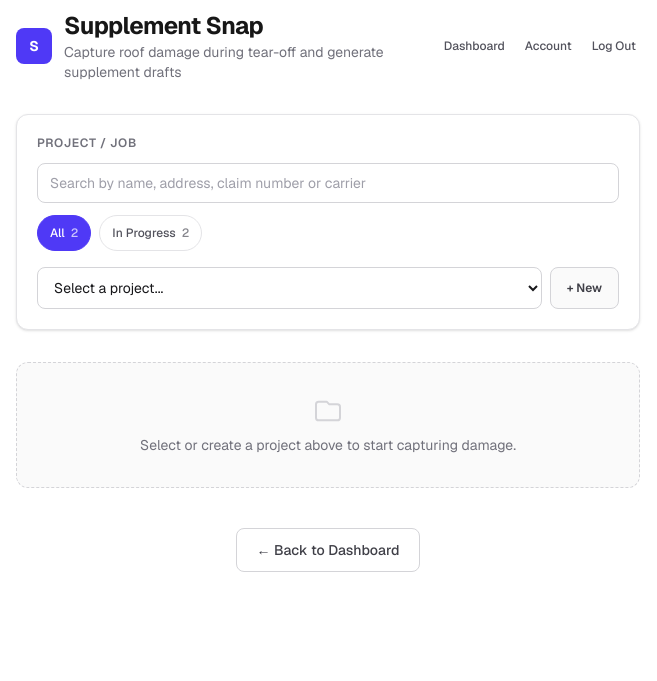
Test: dashboard smoke test (stand-in database) › for the owner, the same report flow does save the statuses, and says so if the database refuses them
Select "Garcia Roof (In Progress)" in the dropdown labelled "Project / Job": [289, 288] box [37,267,542,309]
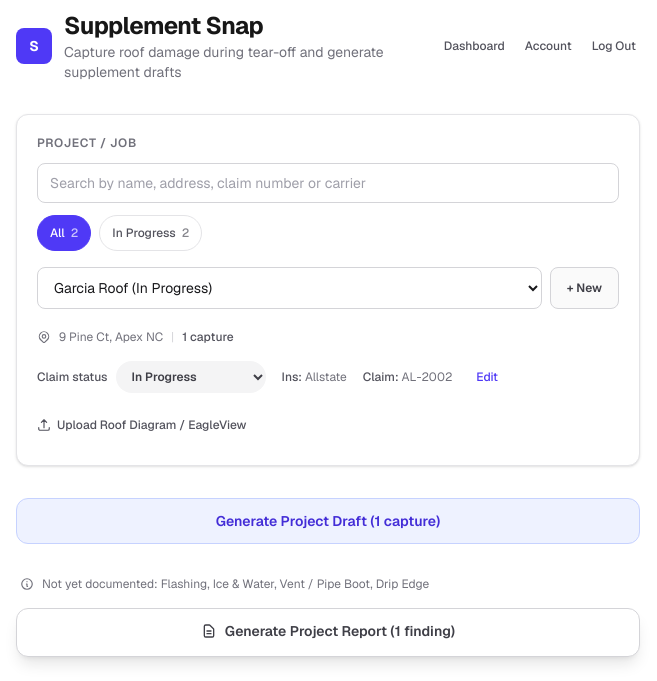
Click the button "Generate Project Report (1 finding)": [328, 632] box [16,608,640,657]
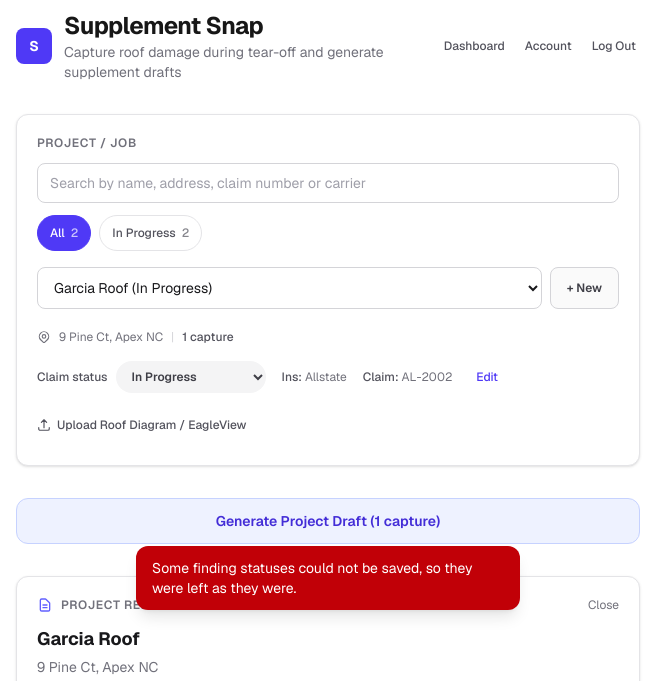
Result: the text "Some finding statuses could not be saved, so they were left as they were." is shown at [136,546,520,610]
